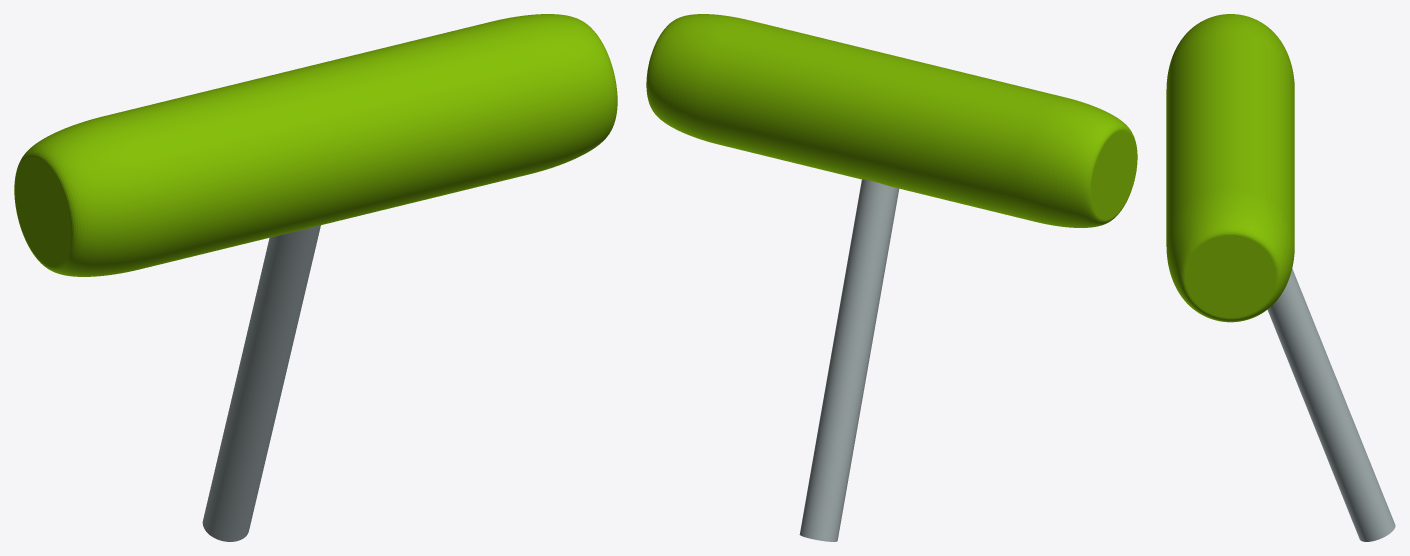
Rendered from Lever_Green.glb.
3 views of the same model, side by side, from view 1: azimuth 30°, elevation 25°; view 2: azimuth 150°, elevation 25°; view 3: azimuth 270°, elevation 25° (orthographic). The views are drawn at different scales.
Visible parts, largest first — view 1: Lever Top, Lever Body; view 2: Lever Top, Lever Body; view 3: Lever Top, Lever Body.
Part boxes in pixels (x1,y1,x2,y2): Lever Top: [14, 14, 617, 276]; Lever Body: [202, 225, 320, 541]; Lever Top: [646, 14, 1137, 227]; Lever Body: [799, 179, 899, 541]; Lever Top: [1166, 14, 1294, 322]; Lever Body: [1267, 268, 1395, 541].
Bounding box in the file's own units: 0.2 × 0.1839 × 0.0892.
